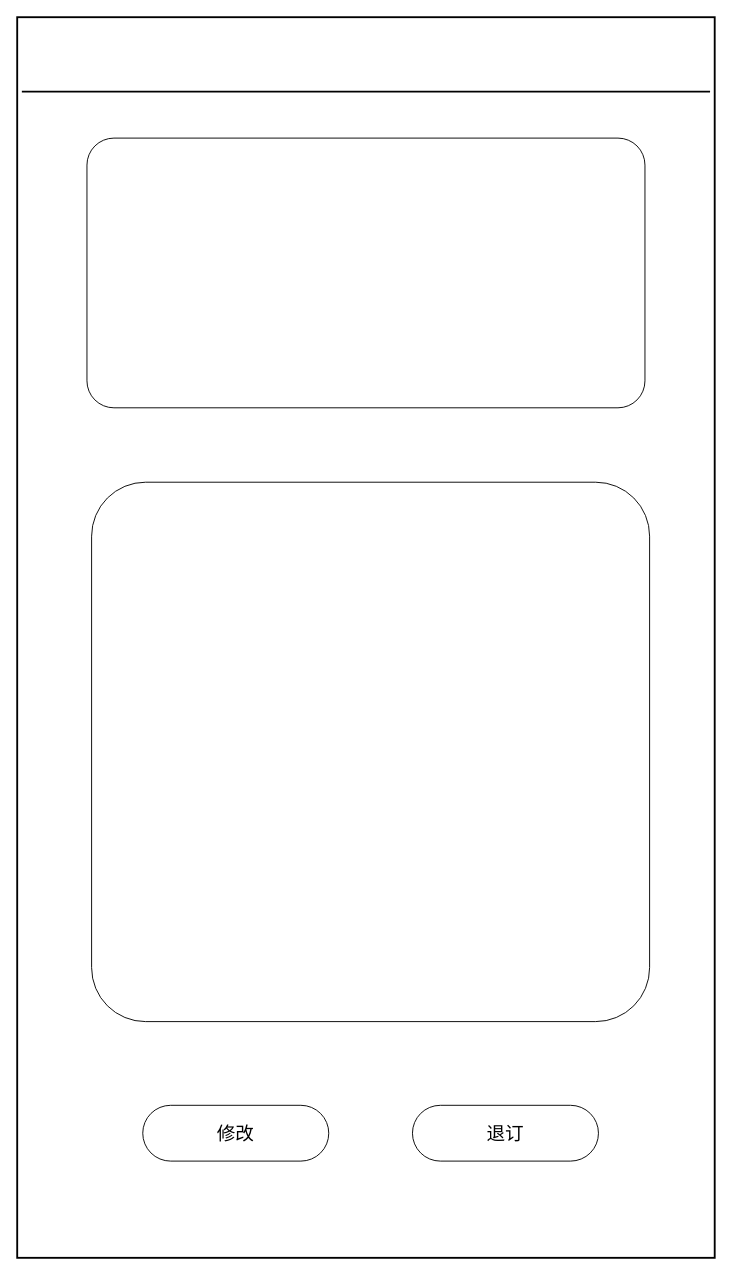
This 731x1274 diagram has some shape labels left out. The shapes that lost their labels are listed below. From the top down, each one's centre as x and y in pixels, then its label:
At point 365,272: "个人部分信息".
At point 370,751: "订单部分信息".
